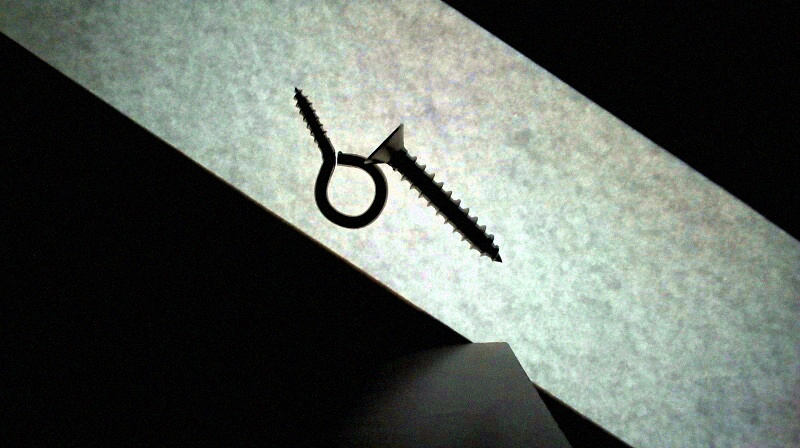O001: (290, 82, 390, 232)
S001: (366, 124, 506, 261)
